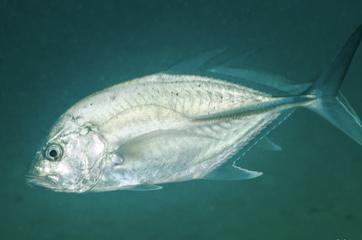Carangidae -Jacks-: (12, 10, 362, 197)
